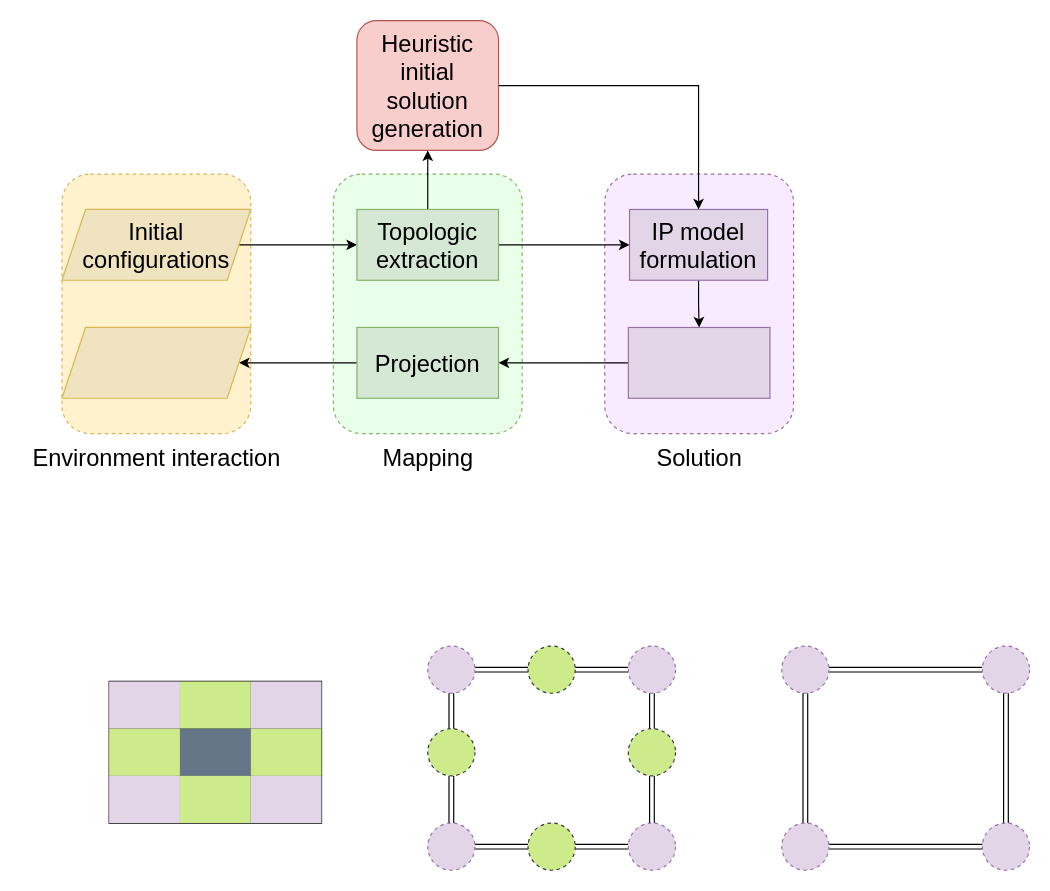
Image size: 1050x891. Some labels were removed from this diagram. The centre of each missing label's shape, as x and y in pixels:
"Final solutions" belongs at point (156, 362).
"IP solver process" belongs at point (698, 362).
